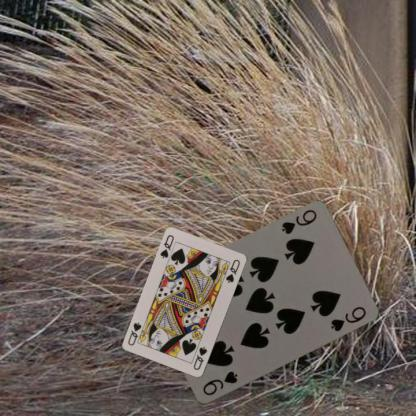9s: (278, 207, 318, 236), (200, 369, 239, 397)
Qs: (191, 344, 209, 372), (158, 232, 175, 260)
